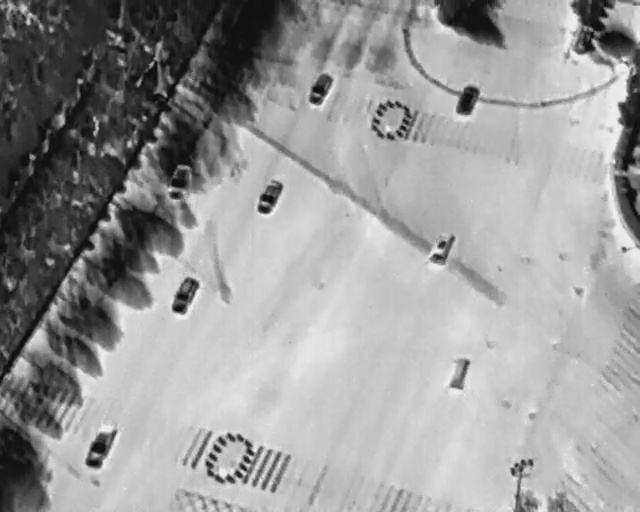Car: (80, 419, 120, 473), (163, 160, 197, 204), (168, 273, 201, 318), (253, 175, 286, 216), (425, 228, 455, 266), (305, 70, 335, 108), (453, 83, 482, 118), (446, 355, 471, 390)
